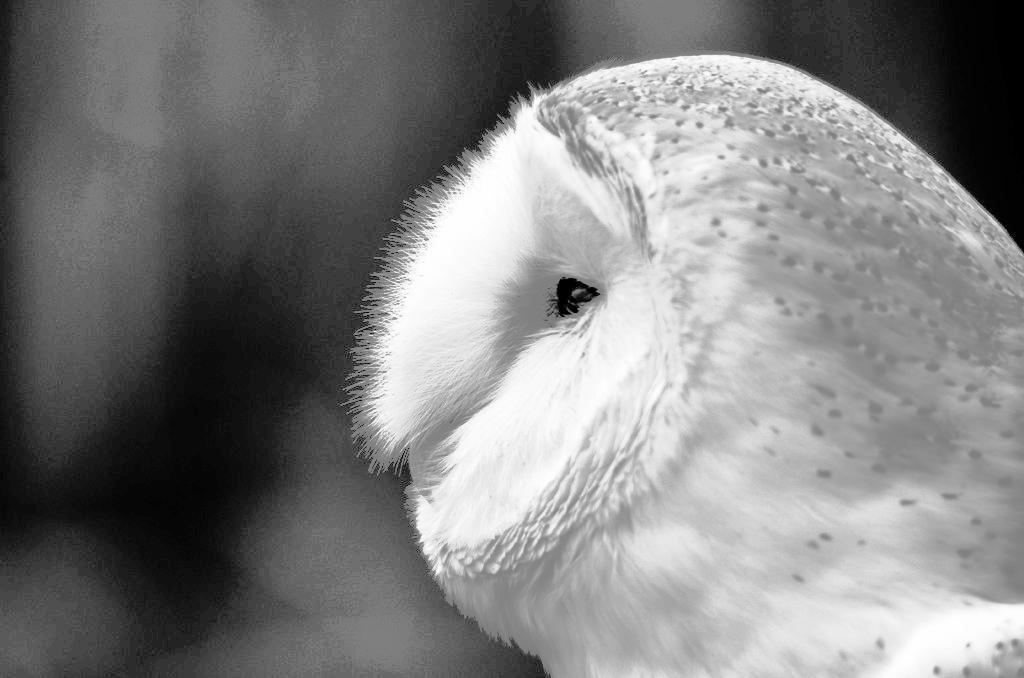Owl: (344, 51, 1024, 678)
